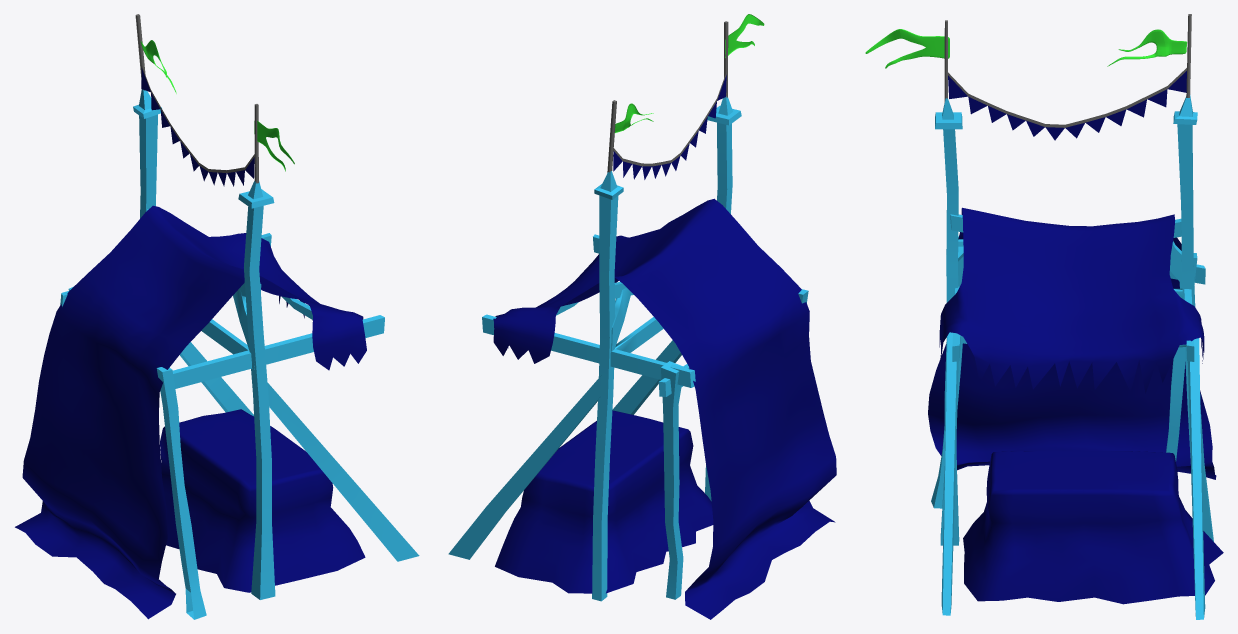
Rendered from Stall_C.fbx.
3 renders of one model, left to right at view 1: azimuth 30°, elevation 25°; view 2: azimuth 150°, elevation 25°; view 3: azimuth 270°, elevation 25°, orthographic. The views are drawn at different scales.
Parts seen in each view (by area): view 1: Stall_C; view 2: Stall_C; view 3: Stall_C.
Boxes of the visible parts, box(x1,y1,x2,y2) form: Stall_C: box(15, 14, 419, 619); Stall_C: box(448, 14, 836, 619); Stall_C: box(865, 14, 1223, 619).
Size of the model in its own units: 280 by 475 by 293.
